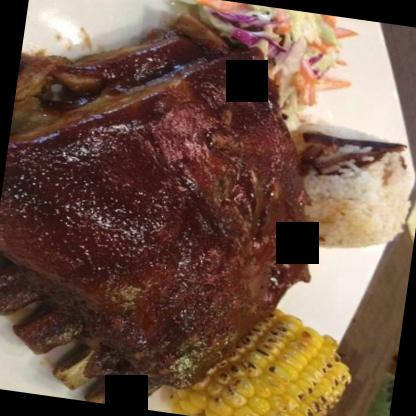corn: (161, 294, 360, 415)
